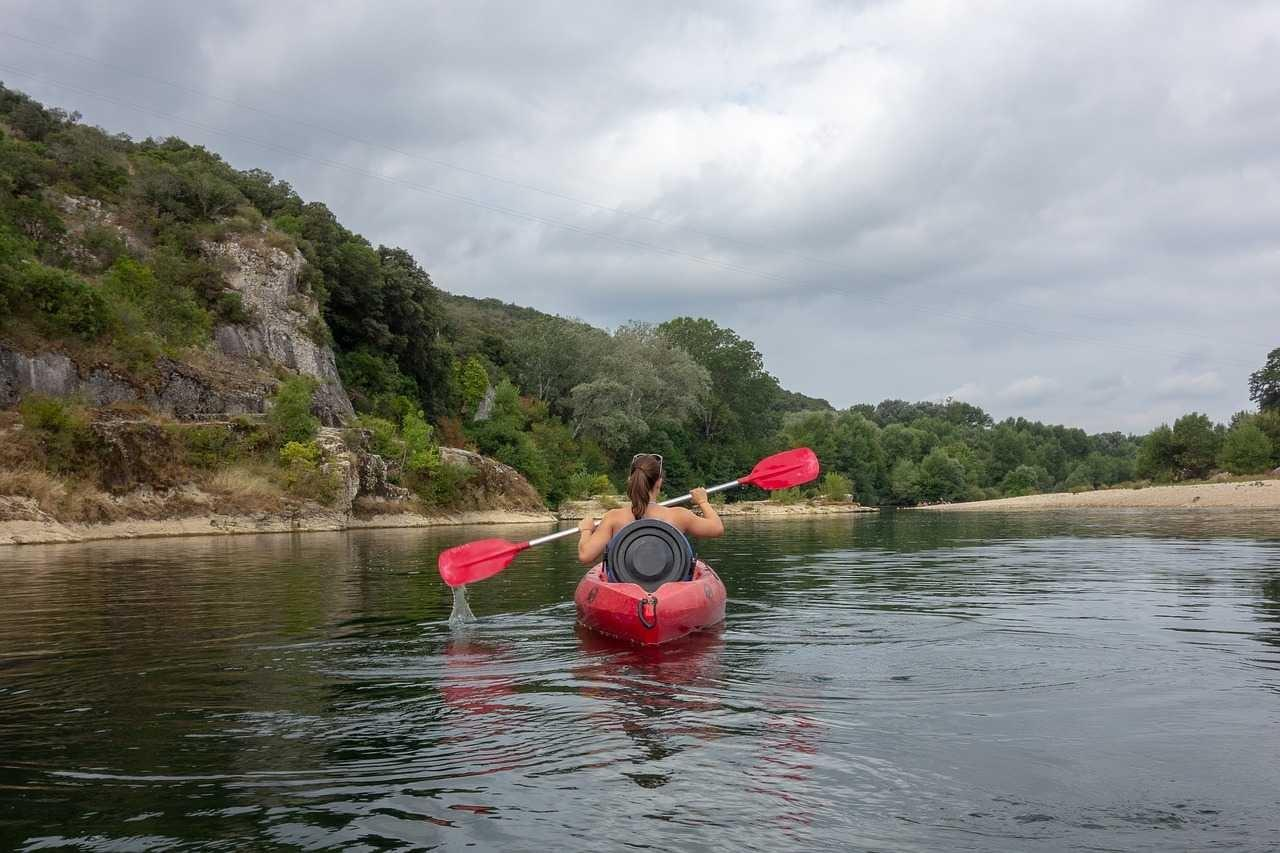kayak: (574, 553, 727, 645)
